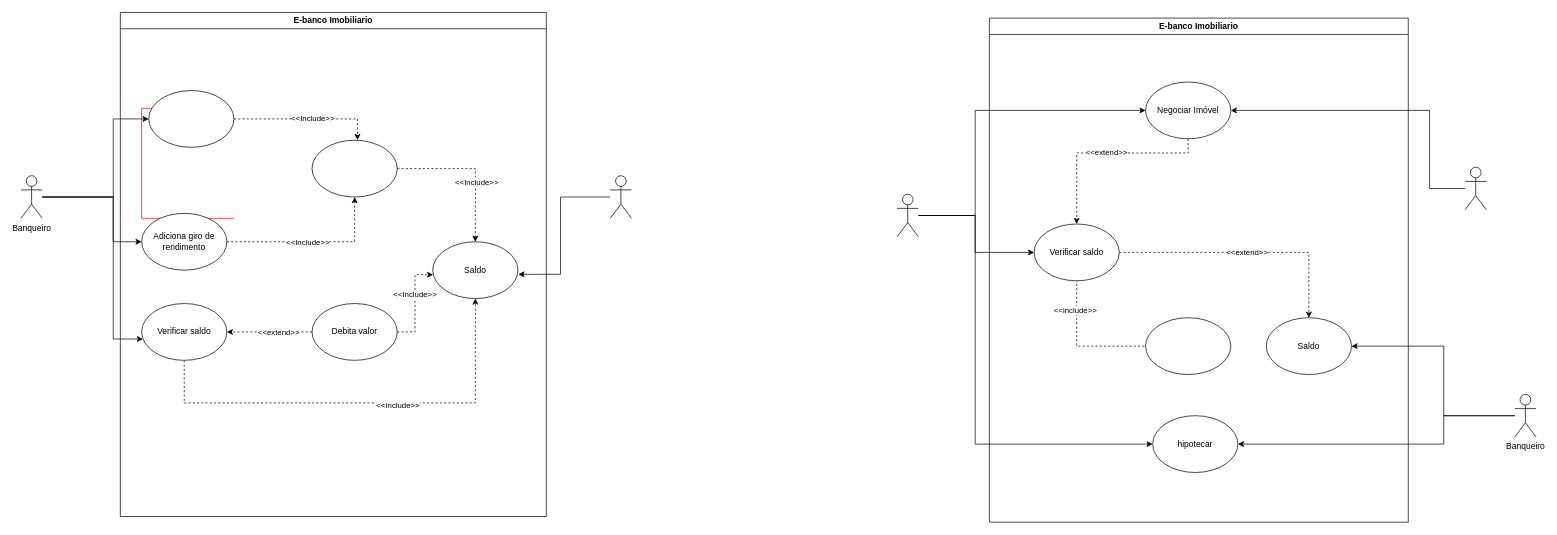
Some shapes in this 1557 by 535 pixel diagram are drawn without their labels. The centre of each missing label's shape, as x and y in pixels:
"Adiciona Valor" goes at [354,168].
"Compra propriedade" goes at [1188,346].
"Empresario" goes at [621,196].
"Empresário 1" goes at [907,215].
"Empresário 2" goes at [1475,188].
"Inicia Partida" goes at [191,118].
